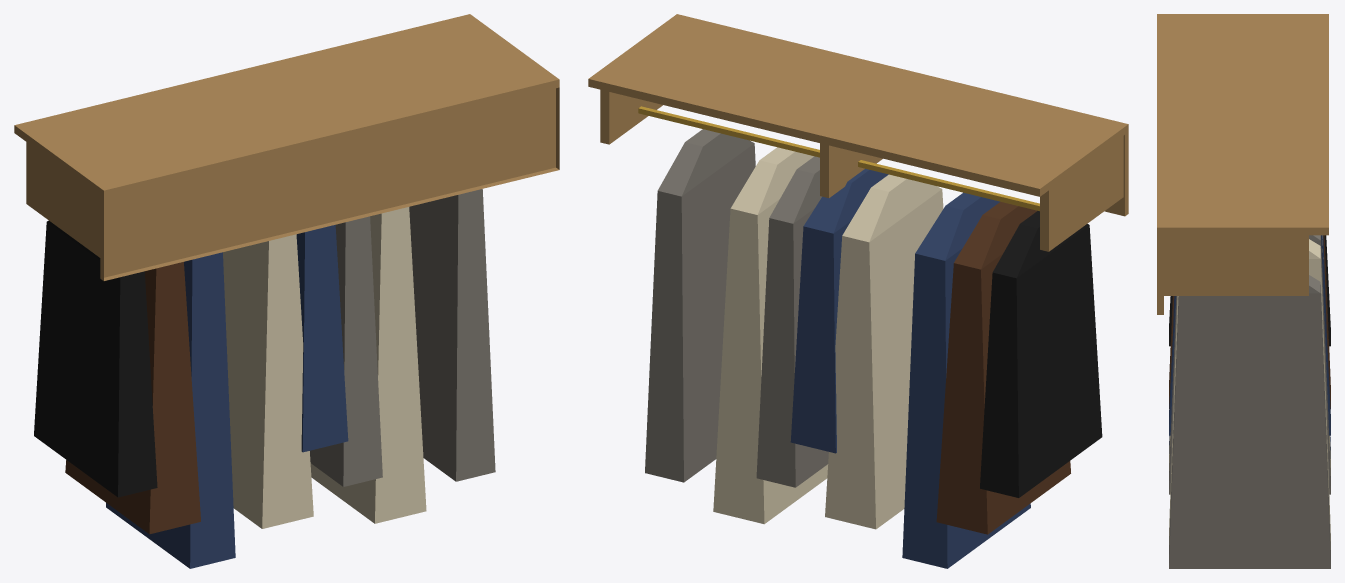
File: parametric-coat_rack-2nd-pub.glb
3 views of the same model, side by side, from view 1: azimuth 30°, elevation 25°; view 2: azimuth 150°, elevation 25°; view 3: azimuth 270°, elevation 25° (orthographic). The views are drawn at different scales.
Visible parts, largest first — view 1: parametric-coat_rack-2nd-pub; view 2: parametric-coat_rack-2nd-pub; view 3: parametric-coat_rack-2nd-pub.
Boxes of the visible parts, x1=… form: parametric-coat_rack-2nd-pub: x1=14, y1=14, x2=559, y2=568; parametric-coat_rack-2nd-pub: x1=588, y1=14, x2=1128, y2=568; parametric-coat_rack-2nd-pub: x1=1157, y1=14, x2=1330, y2=568.
Bounding box in the file's own units: 1.5 × 1.27 × 0.515.
